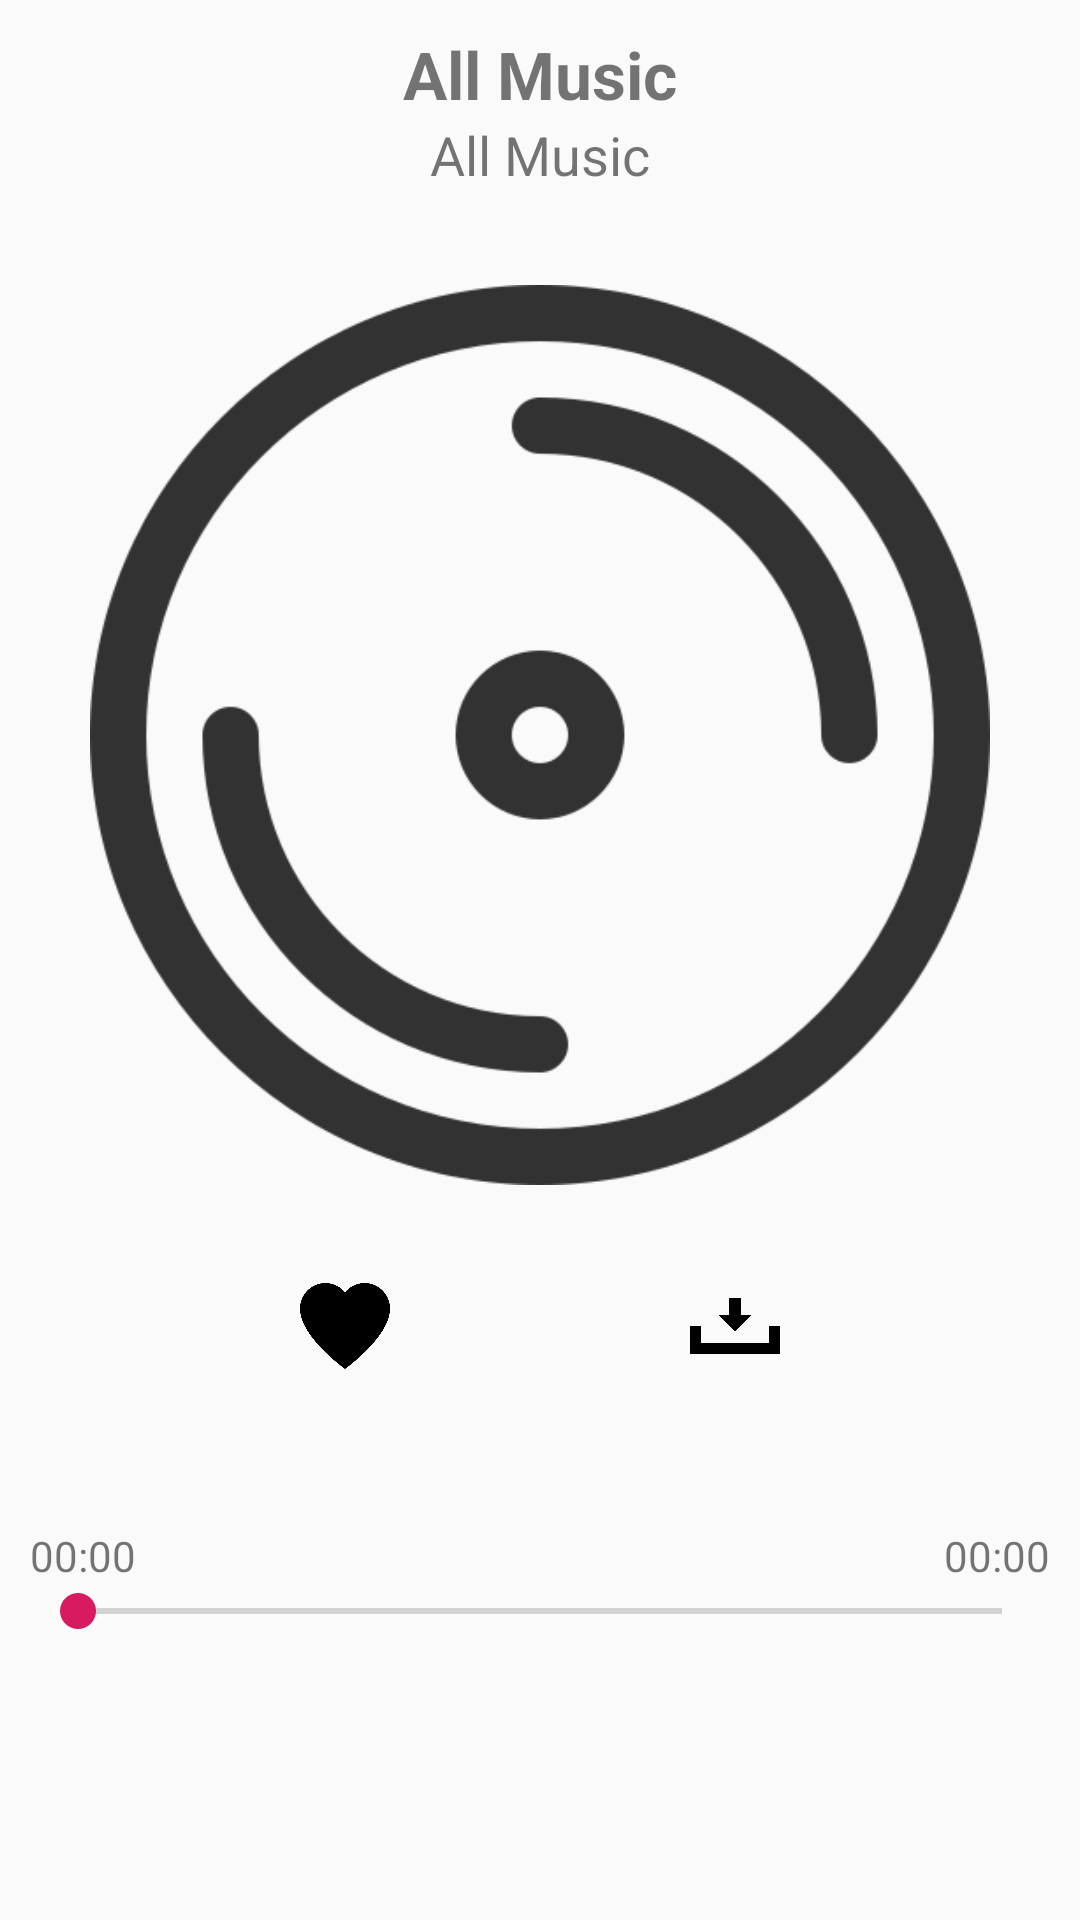

Named icons in this screenshot (1080w x 1920h) and their bounding boxes, [left=x1, top=y1, right=x2, bottom=y2]:
download: [left=690, top=1298, right=780, bottom=1354]
favorited: [left=300, top=1283, right=390, bottom=1369]
